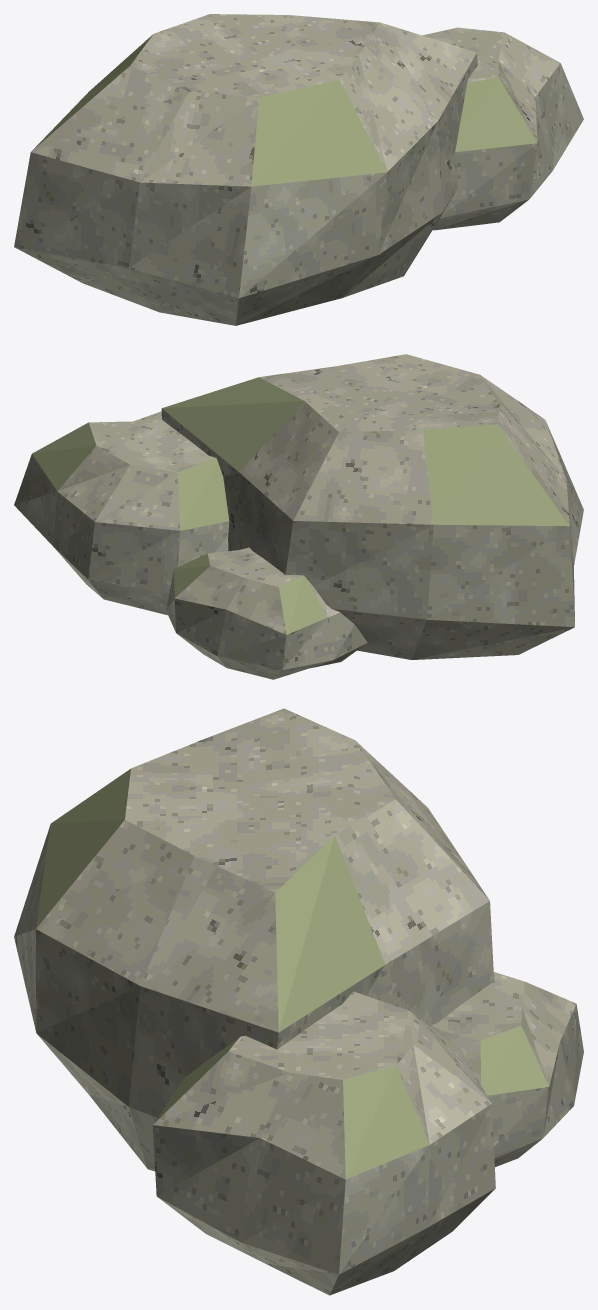
File: holm_arrival_fieldstones_oldschool_v1.glb
The picture shows the model from 3 angles, top to bottom: view 1: azimuth 30°, elevation 25°; view 2: azimuth 150°, elevation 25°; view 3: azimuth 270°, elevation 25°; orthographic projection. The views are drawn at different scales.
Visible parts, largest first — view 1: Fieldstones; view 2: Fieldstones; view 3: Fieldstones.
Boxes of the visible parts, bbox=[...] form: Fieldstones: bbox=[14, 14, 583, 325]; Fieldstones: bbox=[14, 354, 583, 679]; Fieldstones: bbox=[14, 708, 583, 1295].
Size of the model in its own units: 2.16 by 0.8274 by 1.37.
Materials: 3 (2 with a texture image).
